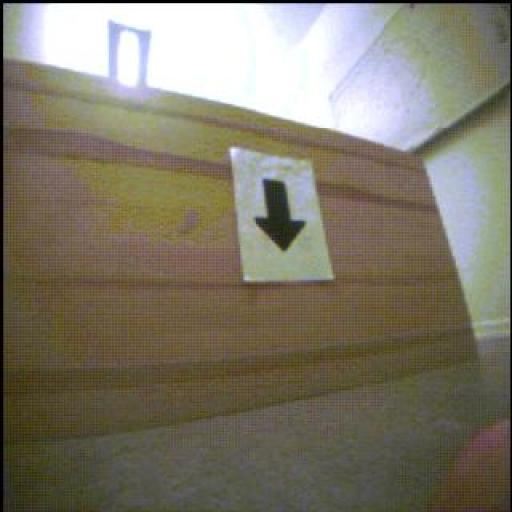Arrow: (256, 180, 307, 252)
